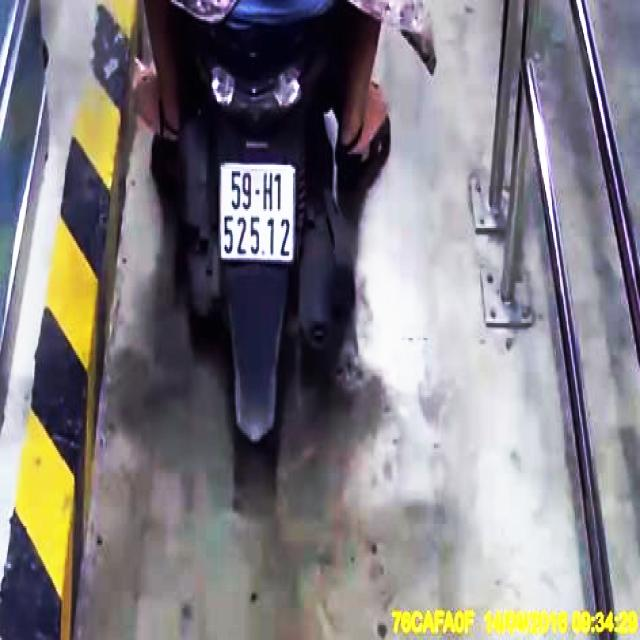license_plate: (220, 164, 297, 260)
